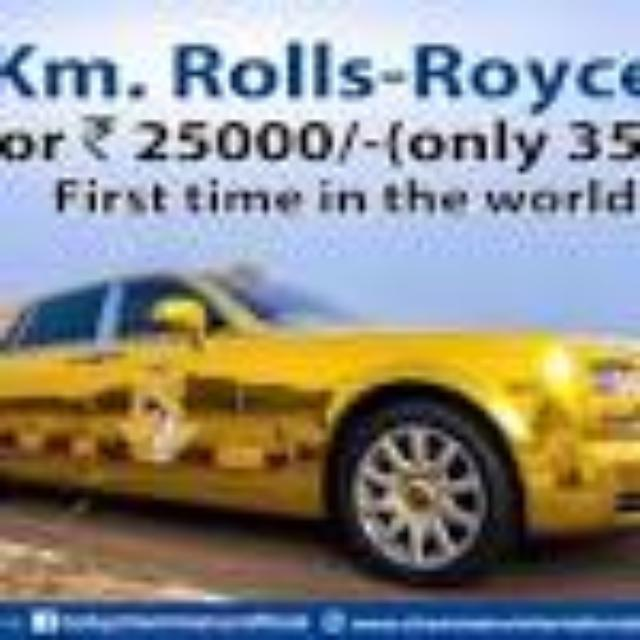rolls-royce: (2, 268, 640, 568)
